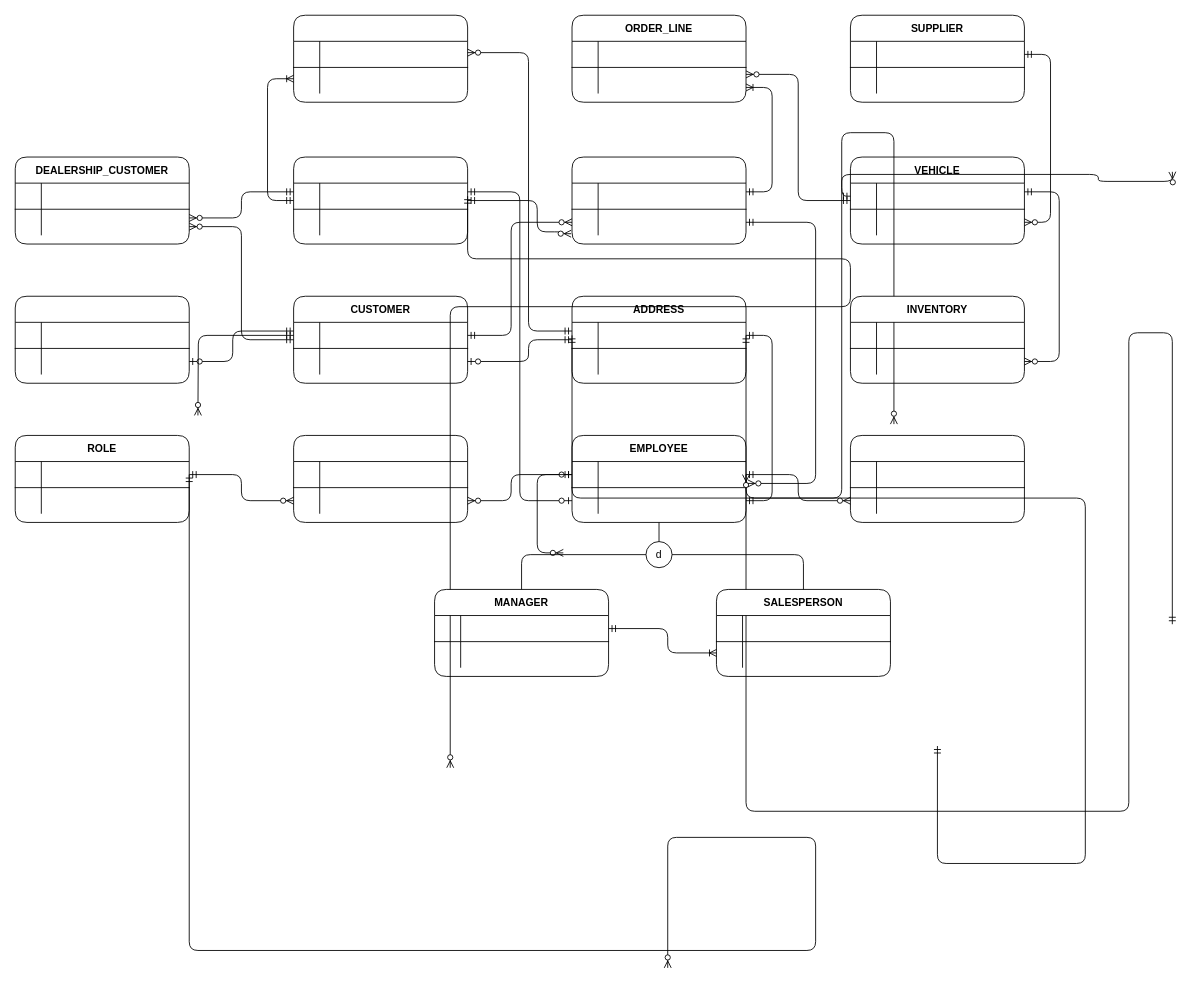
Image size: 1196x991. Some labels were removed from this diagram. The box of each missing label's shape, as (x1, y1, x2, y2) in pixels:
ACCOUNT: (14, 295, 189, 383)
DEALERSHIP: (293, 156, 468, 244)
DEALERSHIP_LOCATION: (293, 14, 468, 102)
EMPLOYEE_DEPENDENT: (850, 435, 1024, 522)
EMPLOYEE_ROLE: (293, 435, 468, 522)
ORDER: (571, 156, 746, 244)
